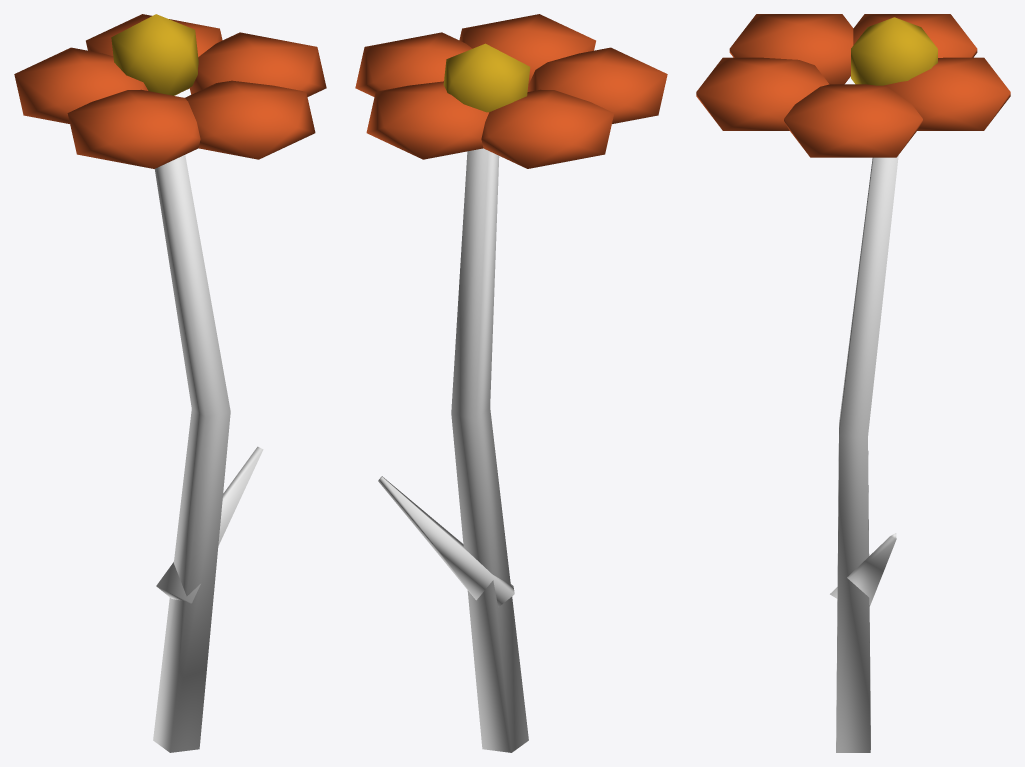
The model's file is fireblossom_plant_v0.glb.
The picture shows the model from 3 angles, left to right: view 1: azimuth 30°, elevation 25°; view 2: azimuth 150°, elevation 25°; view 3: azimuth 270°, elevation 25°; orthographic projection.
Parts seen in each view (by area): view 1: fireblossom_plant_v0; view 2: fireblossom_plant_v0; view 3: fireblossom_plant_v0.
Part boxes in pixels (bbox=[...]): fireblossom_plant_v0: bbox=[14, 14, 326, 752]; fireblossom_plant_v0: bbox=[355, 14, 667, 752]; fireblossom_plant_v0: bbox=[696, 14, 1010, 752].
Size of the model in its own units: 0.153 by 0.3926 by 0.1536.
